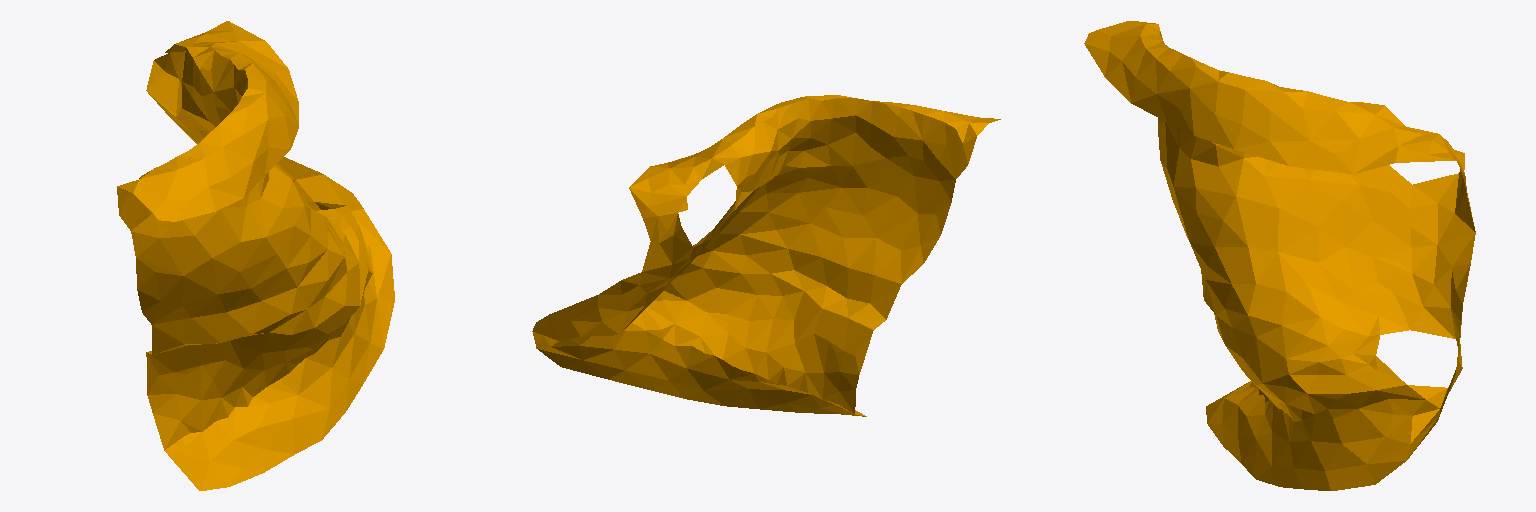
URDF robot description (init):
<?xml version='1.0' encoding='utf-8'?>
<robot name="init">
<link name="link_0"><inertial><mass value="1.0" /><origin rpy="0 0 0" xyz="0.000000 0.000000 0.000000" /><inertia ixx="1.0" ixy="0.0" ixz="0.0" iyy="1.0" iyz="0.0" izz="1.0" /></inertial><visual><origin rpy="0 0 0" xyz="0.000000 0.000000 0.000000" /><geometry><mesh filename="./clothHuman/cloth/1947.obj" /></geometry></visual><collision><origin rpy="0 0 0" xyz="0.000000 0.000000 0.000000" /><geometry><mesh filename="./clothHuman/cloth/1947.obj" /></geometry></collision></link></robot>

--- Facts derived from the render (not from the file) ---
Views: 3 orthographic renders of the robot side by side, from view 1: azimuth 30°, elevation 25°; view 2: azimuth 150°, elevation 25°; view 3: azimuth 270°, elevation 25°.
Model init with 1 links and 0 joints (none), rooted at link_0, posed all joints at 0.
Visible links, largest first — view 1: link_0; view 2: link_0; view 3: link_0.
Link boxes in pixels (box(x1,y1,x2,y2)): link_0: box(117, 21, 394, 490); link_0: box(532, 95, 1000, 416); link_0: box(1084, 21, 1475, 490).
Size in the robot's own frame: 3.58 by 3.15 by 3.27 metres.
1 mesh visuals loaded from 1 distinct referenced files (1 OBJ).